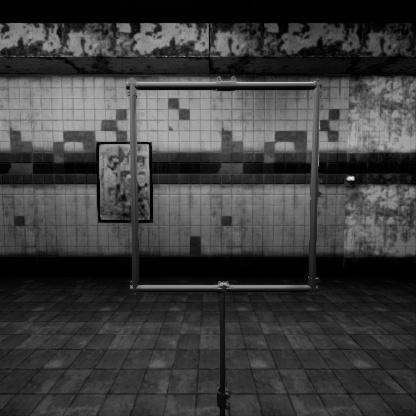gate: (129, 122, 338, 334)
